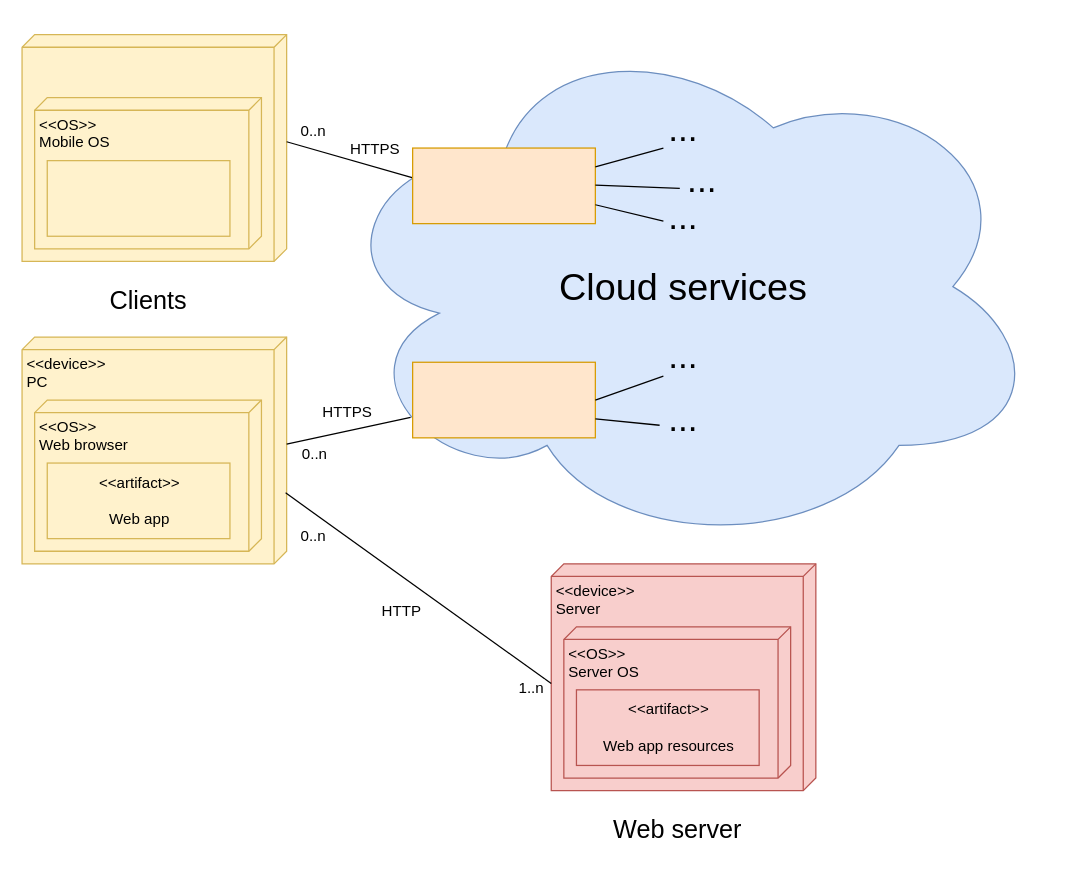
Some shapes in this 1065 by 876 pixel diagram are drawn without their labels. Each missing label, with the box of its shape:
<<artifact>> CPMS gateway microservice: (411, 361, 595, 438)
<<artifact>> eMSS gateway microservice: (411, 147, 595, 224)
<<artifact>> Mobile app: (46, 159, 230, 236)
<<device>> Smartphone: (21, 33, 287, 261)
